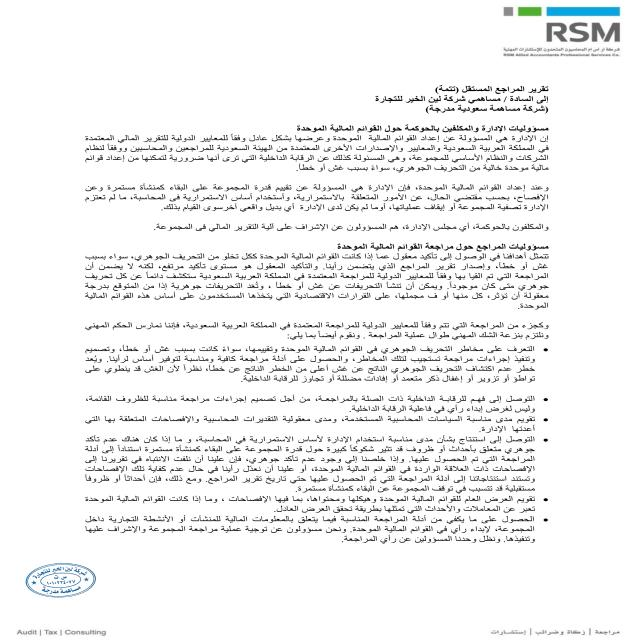auditor_report: (429, 82, 556, 95)
